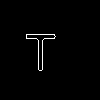T: (25, 25, 56, 70)
